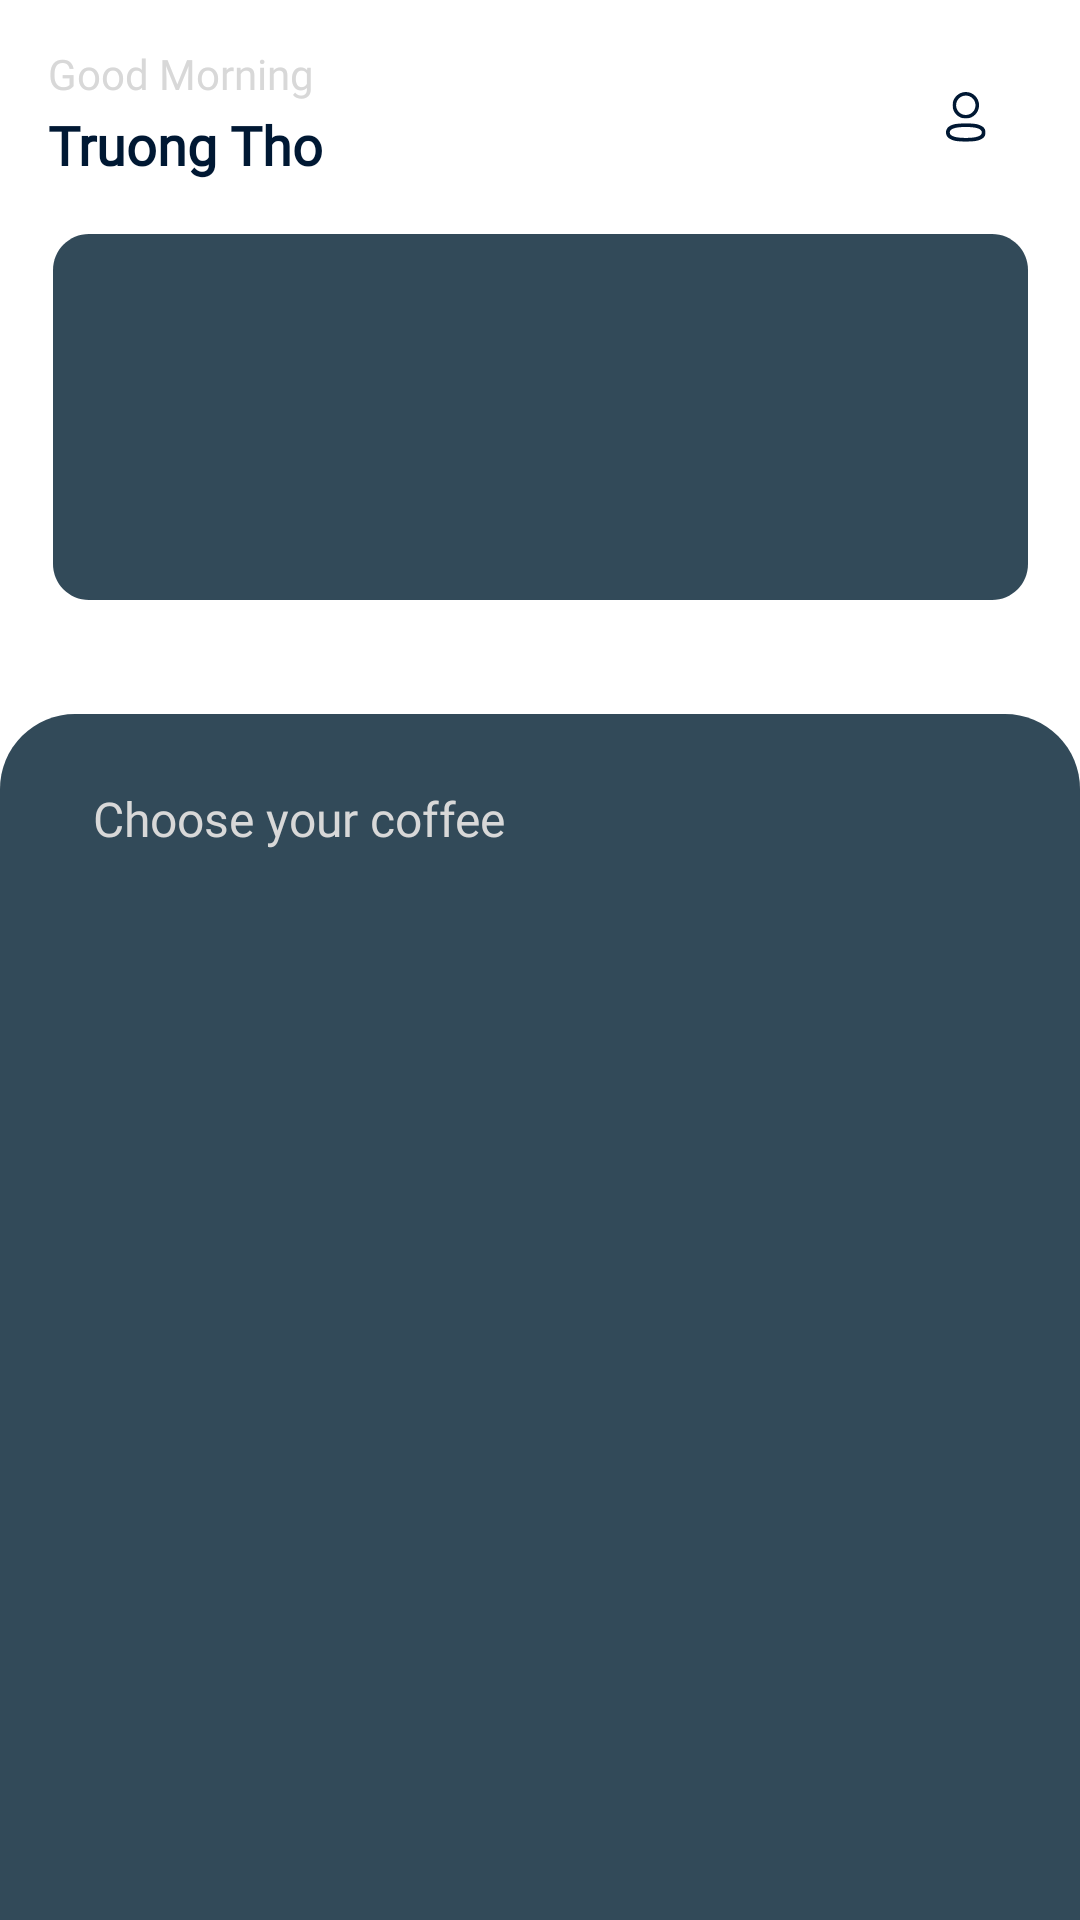

Named icons in this screenshot (1080×1920) and their bounding boxes, (x1, y1, x2, y2):
Profile: (946, 92, 986, 142)
